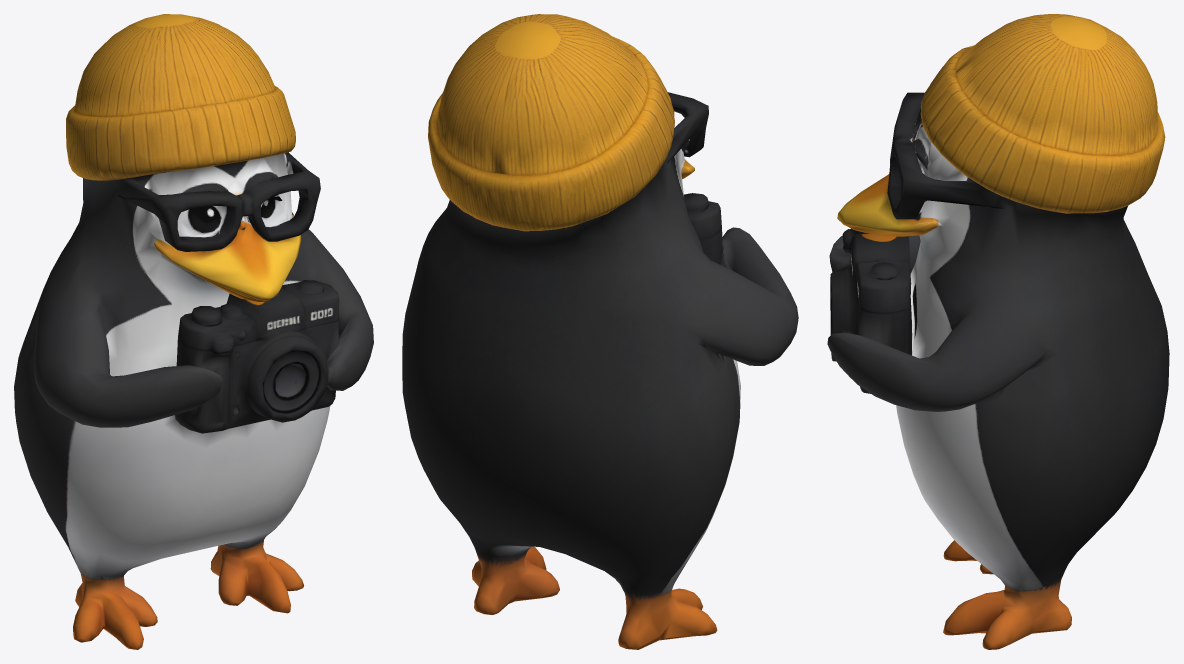
File: 高雅企鹅-摄影.fbx
3 views of the same model, side by side, from view 1: azimuth 30°, elevation 25°; view 2: azimuth 150°, elevation 25°; view 3: azimuth 270°, elevation 25° (orthographic). The views are drawn at different scales.
Visible parts, largest first — view 1: tripo_node_994b7b07; view 2: tripo_node_994b7b07; view 3: tripo_node_994b7b07.
Boxes of the visible parts, x1=… form: tripo_node_994b7b07: x1=14, y1=14, x2=373, y2=649; tripo_node_994b7b07: x1=402, y1=14, x2=798, y2=649; tripo_node_994b7b07: x1=827, y1=14, x2=1169, y2=649.
Bounding box in the file's own units: 0.5916 × 1 × 0.5326.
Materials: 1 (1 with a texture image).
